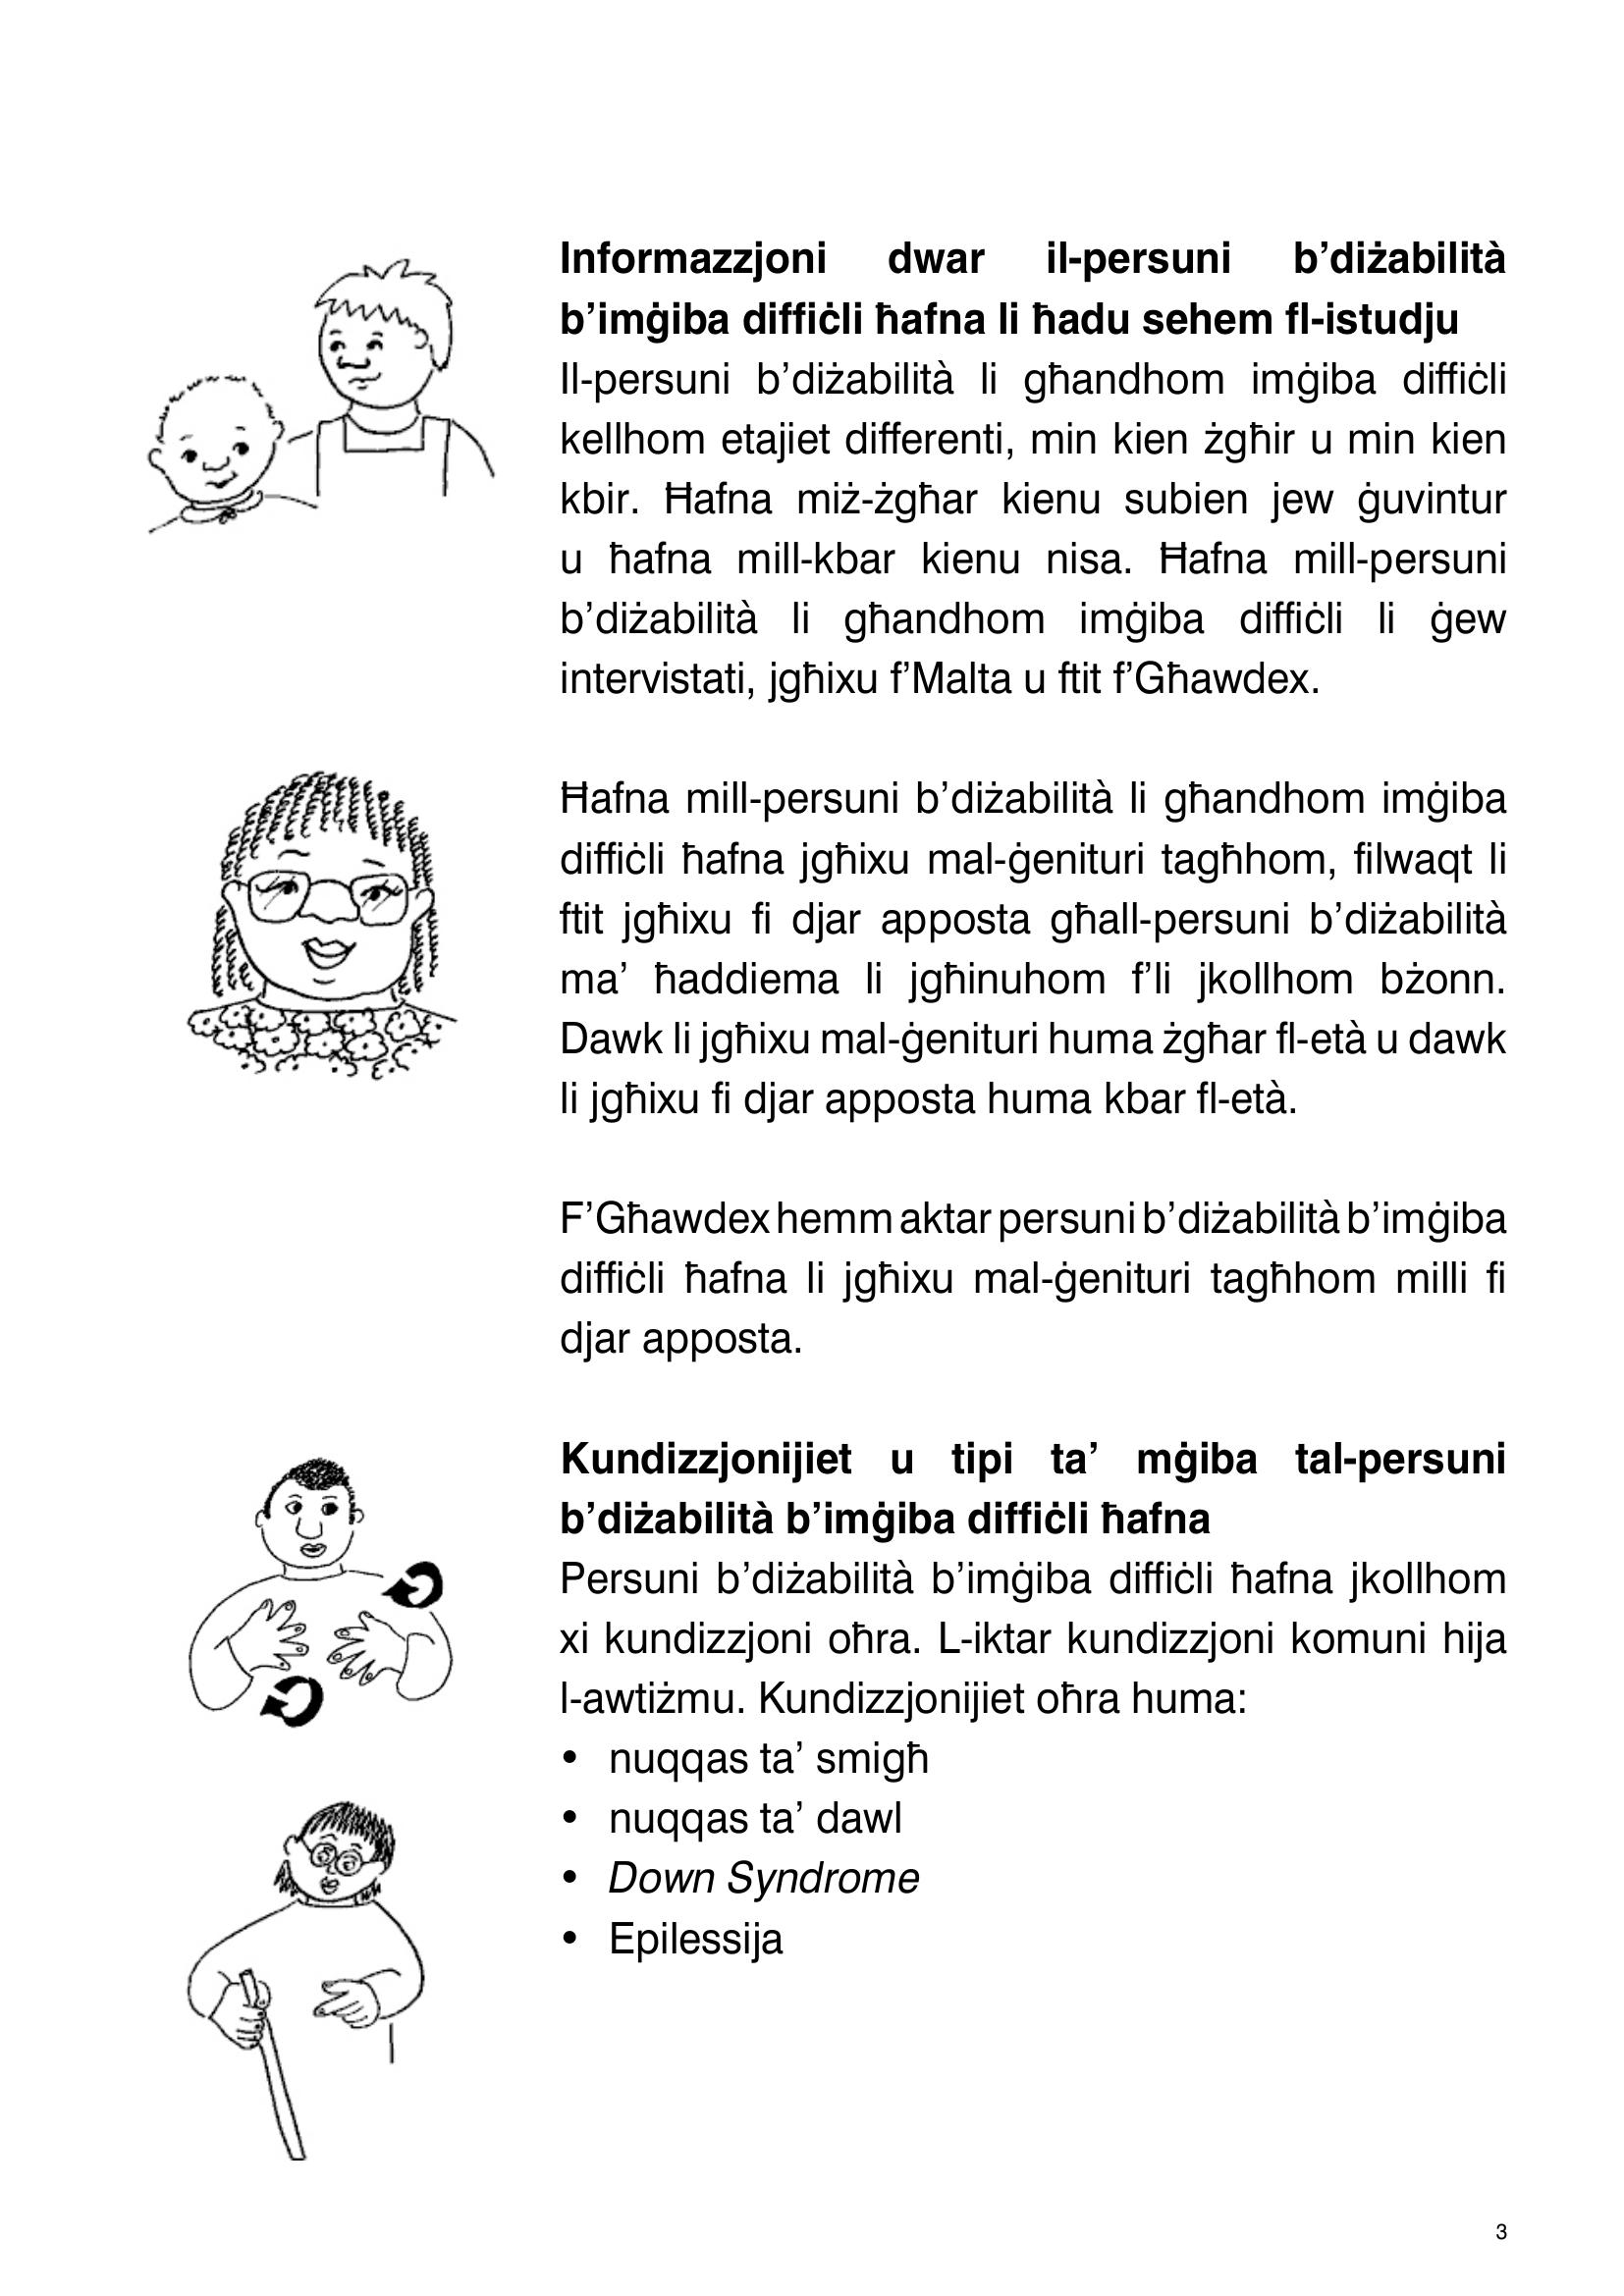text: (541, 202, 1533, 1999)
